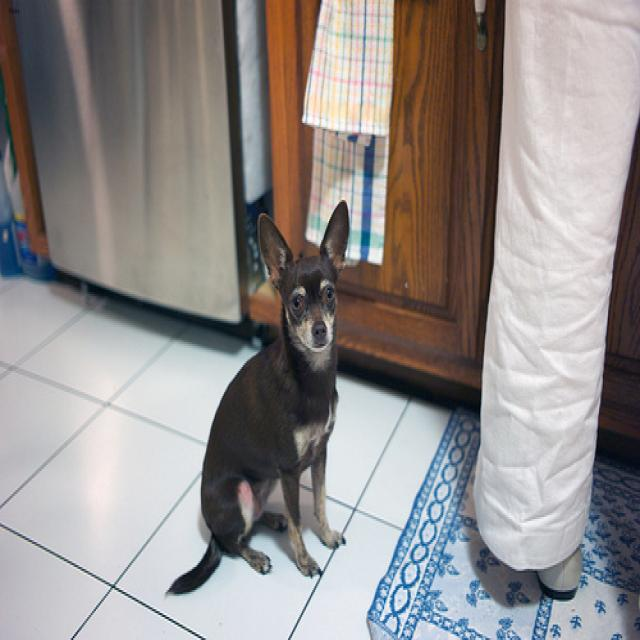dog-chihuahua: (159, 190, 356, 602)
